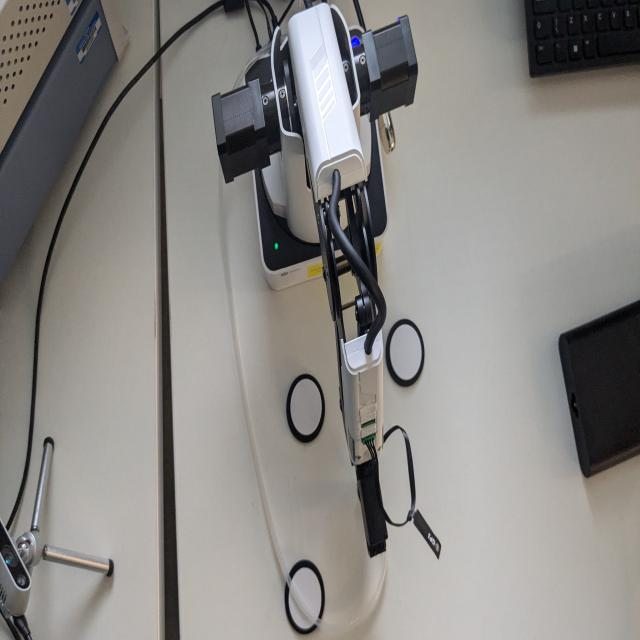Robot-end-effector-HF8z: (354, 466, 391, 560)
